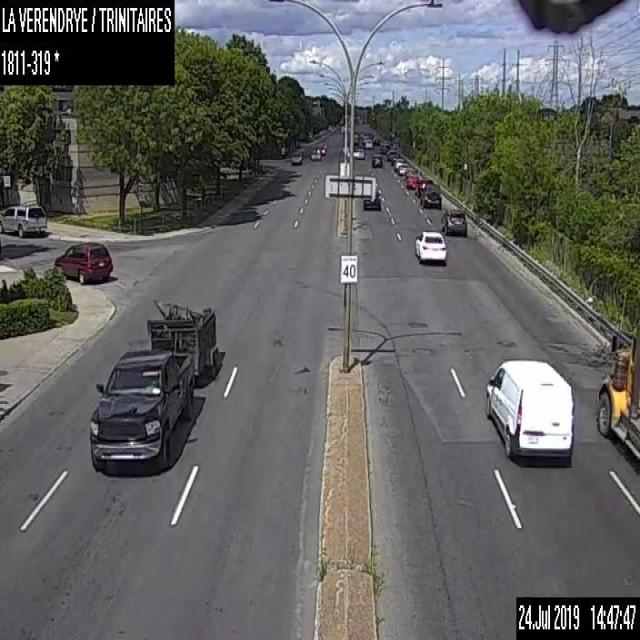vehicle: (88, 297, 226, 476), (484, 357, 574, 460), (594, 329, 639, 464), (53, 238, 114, 286), (0, 201, 46, 237), (414, 230, 447, 260), (440, 208, 466, 235), (417, 181, 441, 206), (362, 191, 380, 209), (406, 172, 418, 188), (290, 148, 302, 164), (392, 157, 407, 169), (370, 153, 382, 166), (386, 148, 398, 160), (378, 140, 389, 153), (310, 147, 321, 160), (316, 143, 325, 155), (355, 147, 364, 159), (398, 164, 408, 174), (364, 138, 373, 148), (372, 135, 379, 144), (362, 134, 369, 142)
